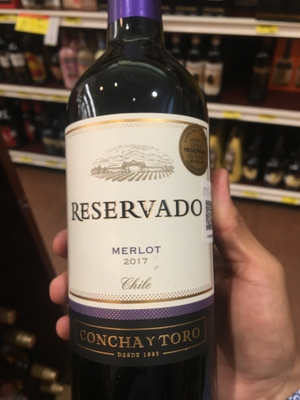reservado merlot: (55, 21, 230, 400)
